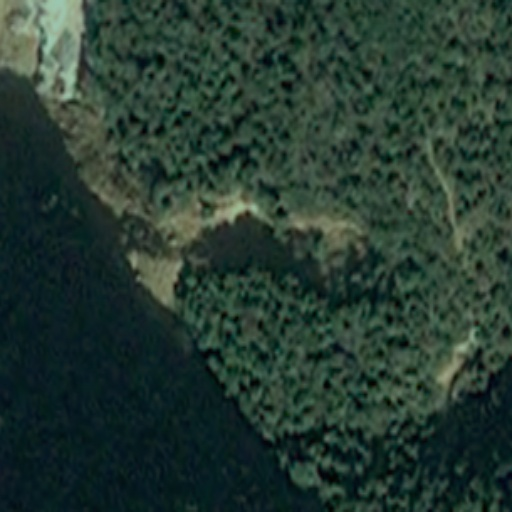landslide: (135, 172, 369, 288)
